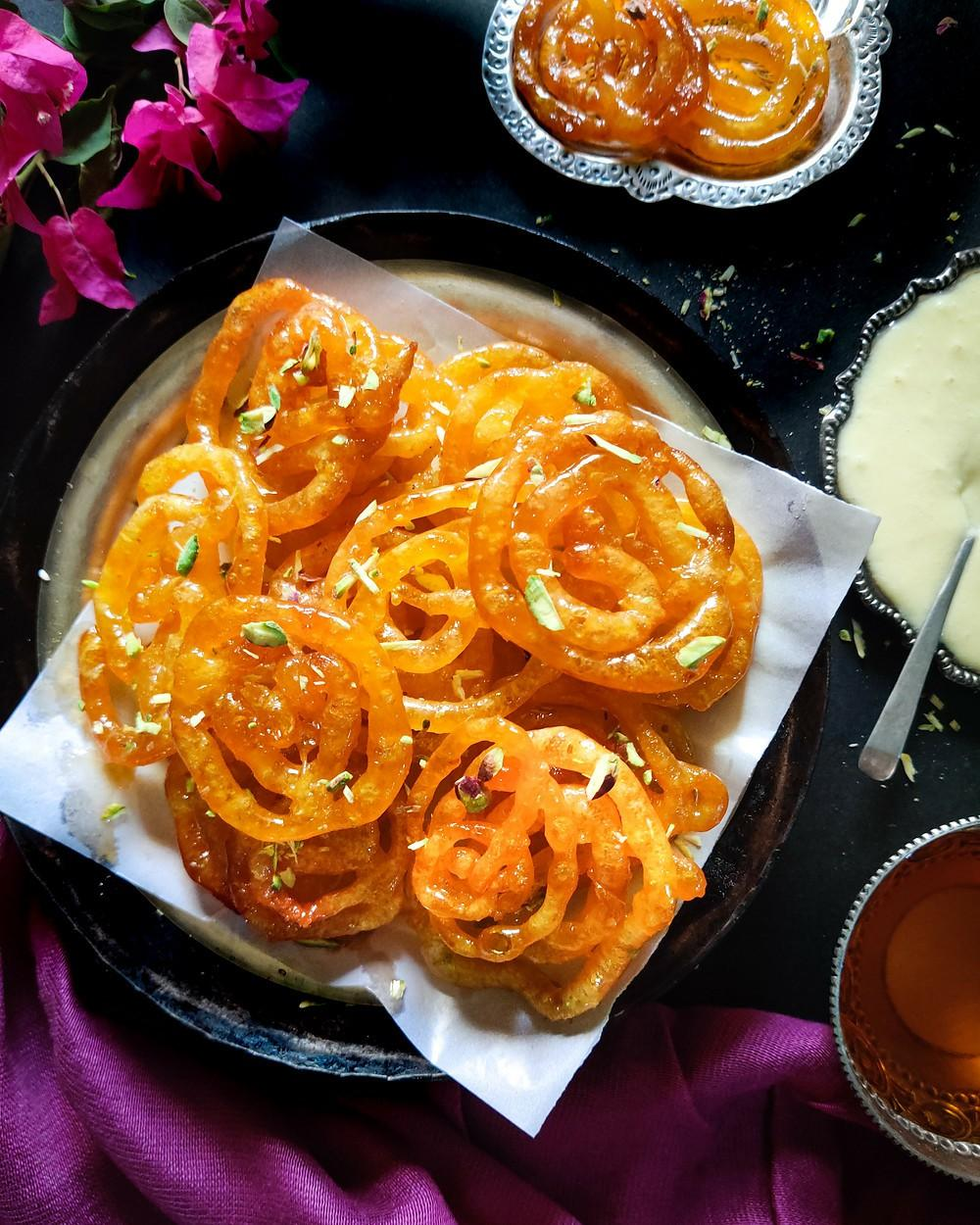Jalebi: (82, 272, 762, 1025), (514, 0, 832, 172)
